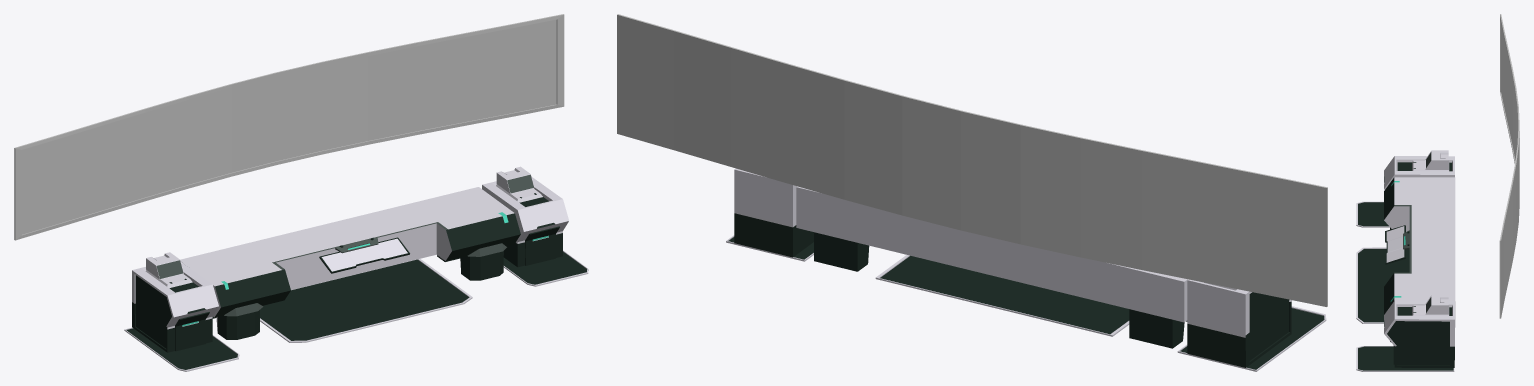
Rendered from CompDeskAndMonitor.fbx.
The picture shows the model from 3 angles, left to right: view 1: azimuth 30°, elevation 25°; view 2: azimuth 150°, elevation 25°; view 3: azimuth 270°, elevation 25°; orthographic projection. The views are drawn at different scales.
Parts seen in each view (by area): view 1: Monitor.001, CompDesk02; view 2: Monitor.001, CompDesk02; view 3: CompDesk02, Monitor.001.
Boxes of the visible parts, bbox=[...] form: Monitor.001: bbox=[14, 14, 564, 240]; CompDesk02: bbox=[124, 166, 588, 371]; Monitor.001: bbox=[617, 14, 1327, 306]; CompDesk02: bbox=[726, 168, 1326, 371]; CompDesk02: bbox=[1356, 150, 1455, 371]; Monitor.001: bbox=[1499, 14, 1519, 318].
Bounding box in the file's own units: 990 × 316 × 302.
